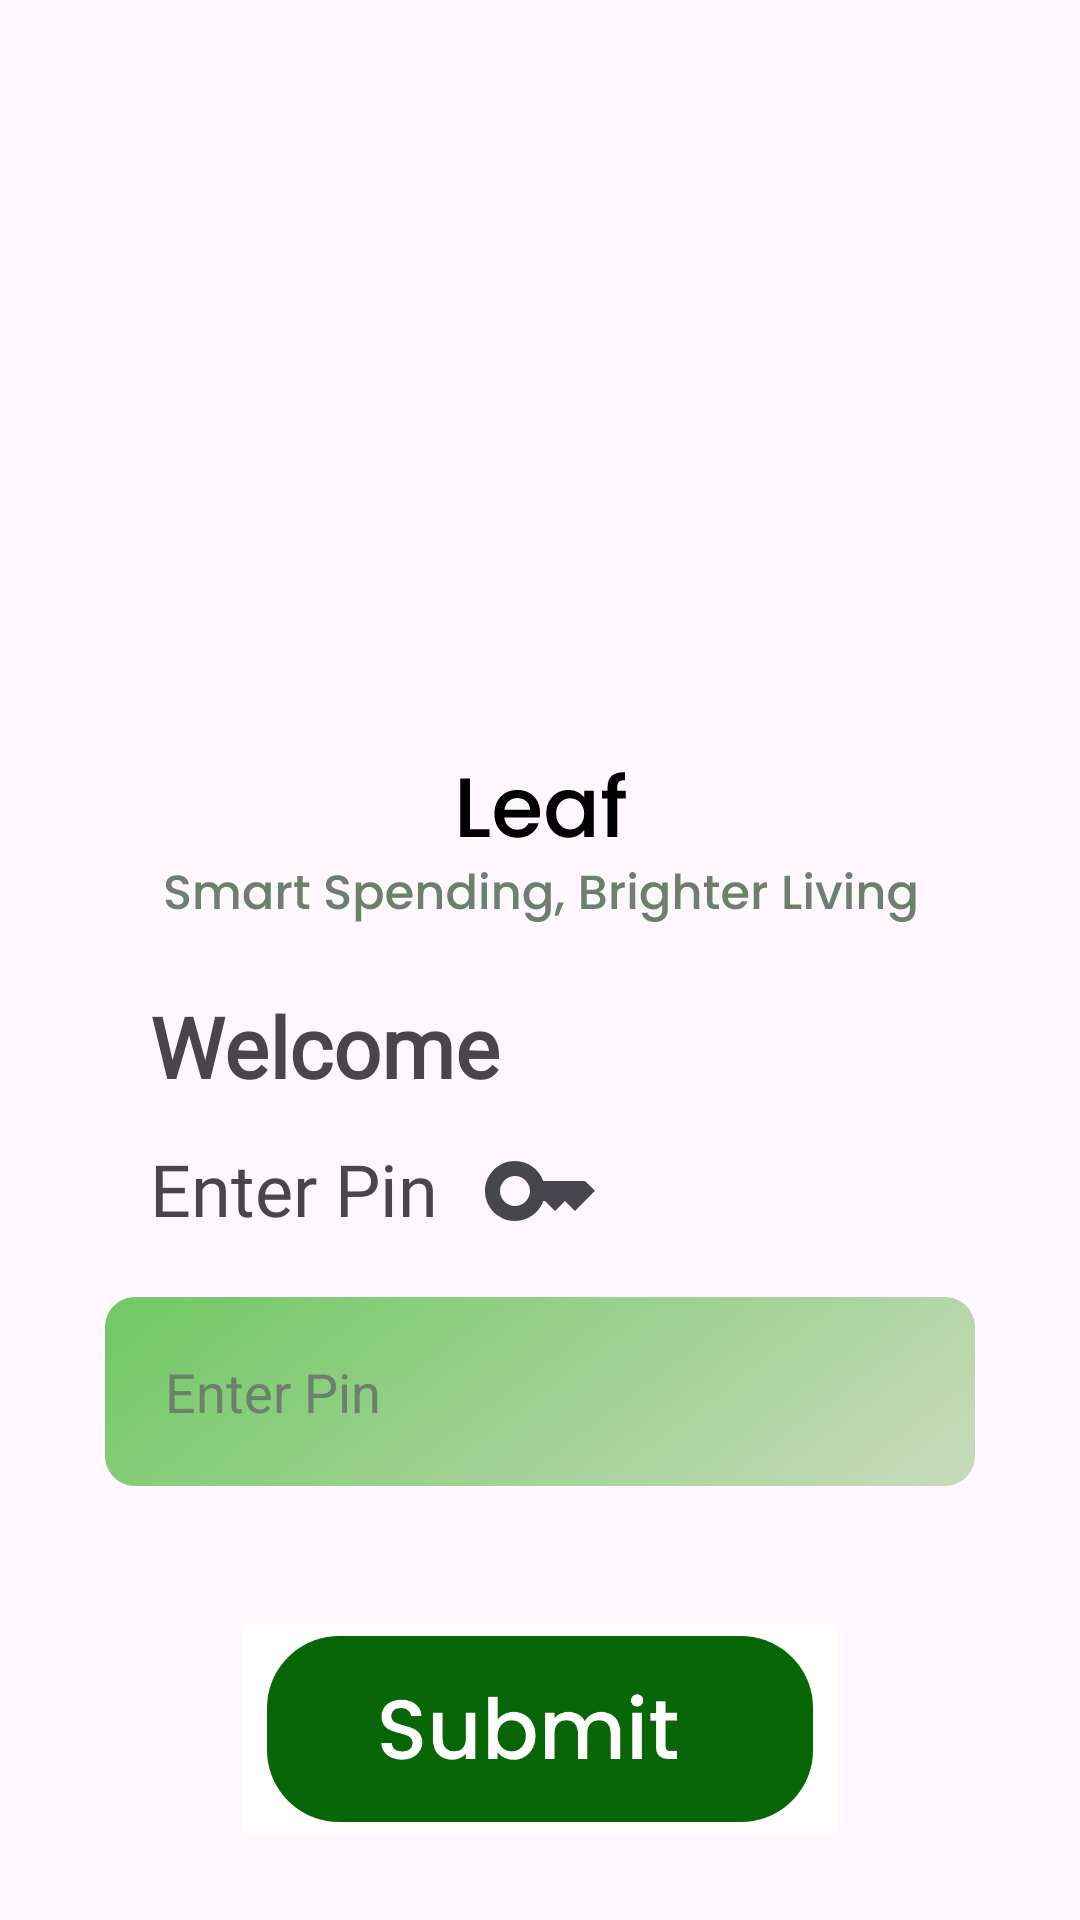

Where to tap for icons on this 1080×1920 app screen, as [x,y]:
key: [540,1191]
